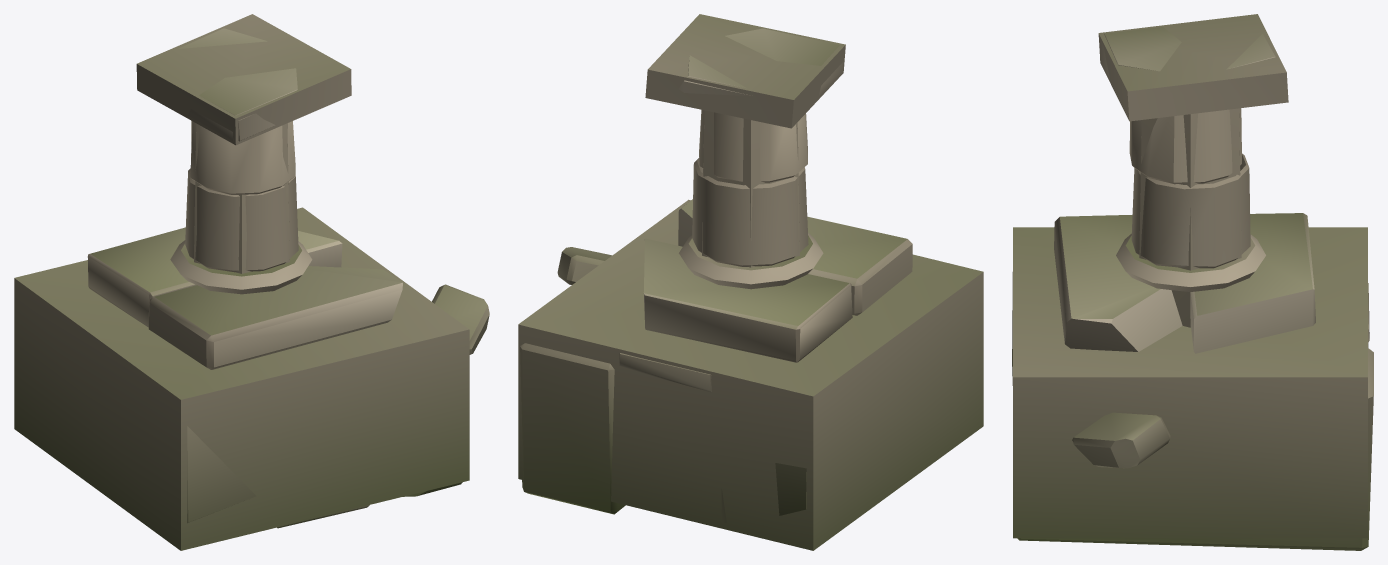
File: shrine.glb
3 views of the same model, side by side, from view 1: azimuth 30°, elevation 25°; view 2: azimuth 150°, elevation 25°; view 3: azimuth 270°, elevation 25° (orthographic). The views are drawn at different scales.
Parts seen in each view (by area): view 1: shrine_far, shrine; view 2: shrine_far, shrine; view 3: shrine_far, shrine.
Boxes of the visible parts, <box> form: shrine_far: <box>14,14,469,550</box>; shrine: <box>87,28,489,528</box>; shrine_far: <box>518,14,983,550</box>; shrine: <box>520,28,912,522</box>; shrine_far: <box>1013,14,1367,538</box>; shrine: <box>1012,27,1373,550</box>.
Size of the model in its own units: 5.7 by 6.23 by 4.69.
